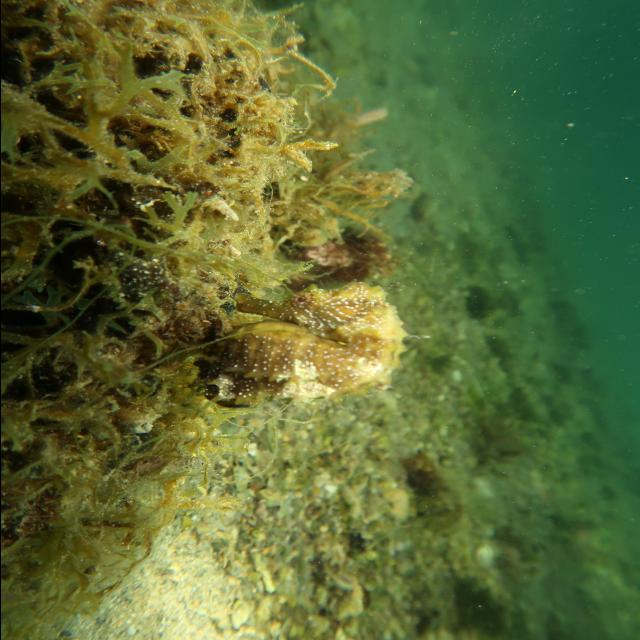Guttu: (223, 278, 403, 348)
